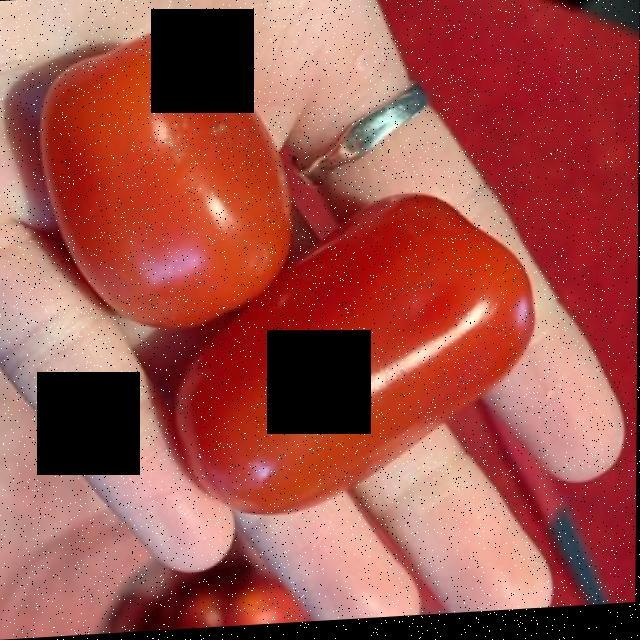tomato: (33, 29, 538, 528)
